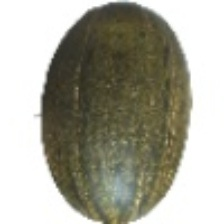honeydew: (40, 20, 206, 170)
